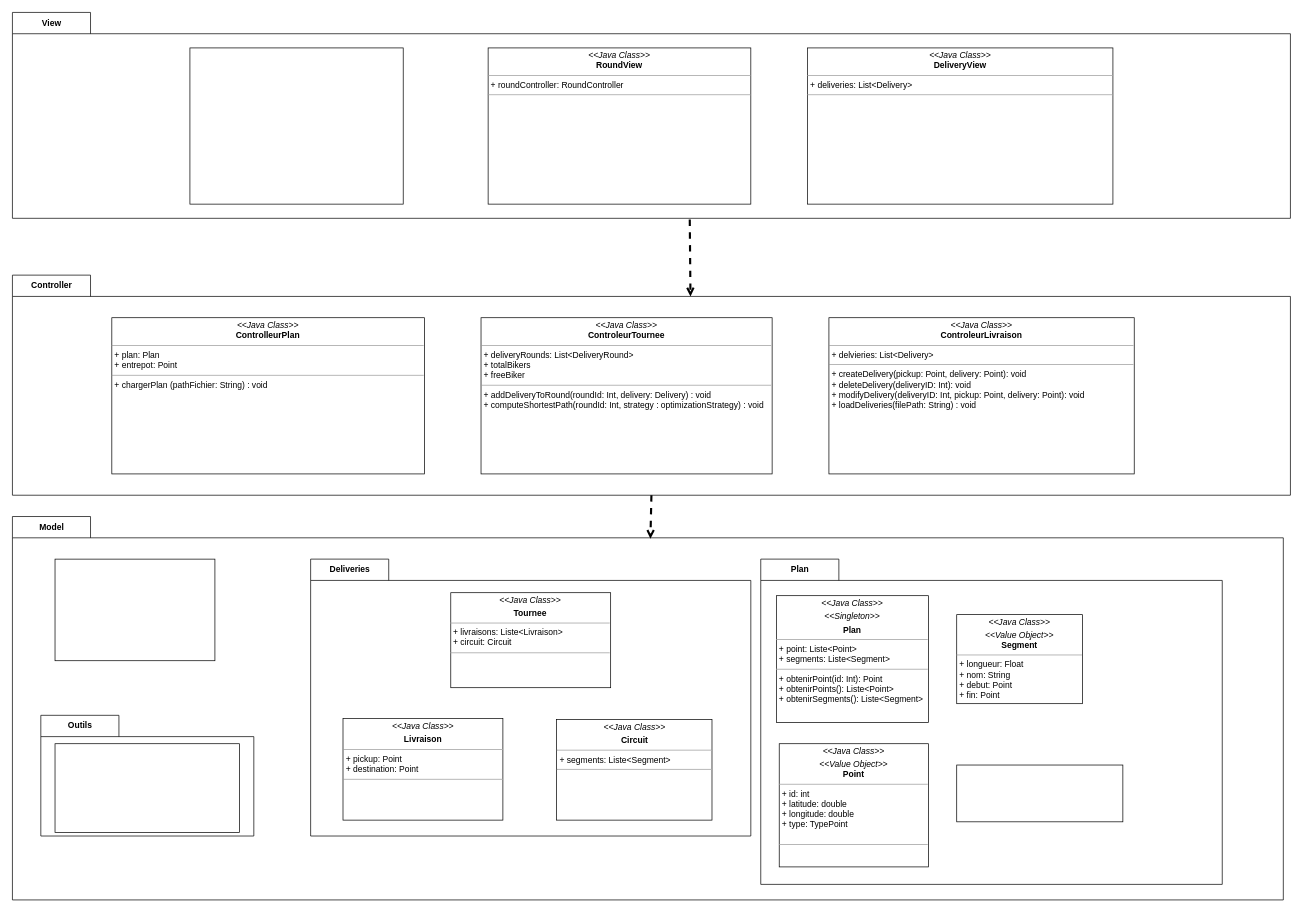
Some shapes in this 1303 by 912 pixel diagram are drawn without their labels. Each missing label, with the centre of its shape:
"<<Enumeration>> TypePoint entrepot, intersection, pickup, destination" goes at point 1039,793.
"<<Java Class>> MapView + mapController: MapController + displayMap () : void" goes at point 296,125.
"<<Java Class>> ParseurXML + parseXML(pathFichier: String) : JSONArray" goes at point 147,788.
"<<Java Class>> Services" goes at point 134,609.
